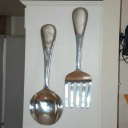Fork: (60, 4, 100, 114)
